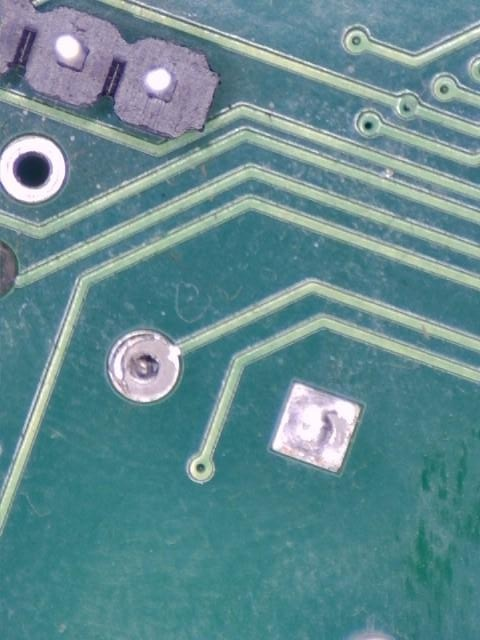pcb_defect: (108, 330, 180, 403)
